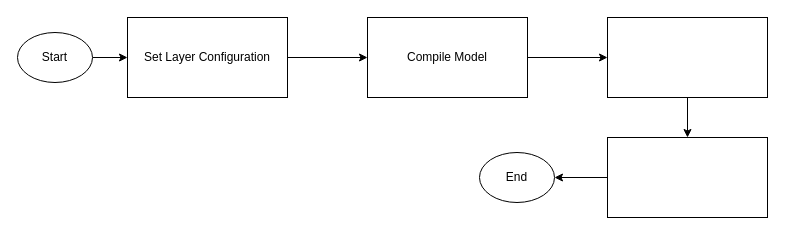
This 785x235 diagram has some shape labels left out. The centre of each missing label's shape, as x and y in pixels:
"Evaluate Model" belongs at [687,177].
"Train Model" belongs at [687,57].
